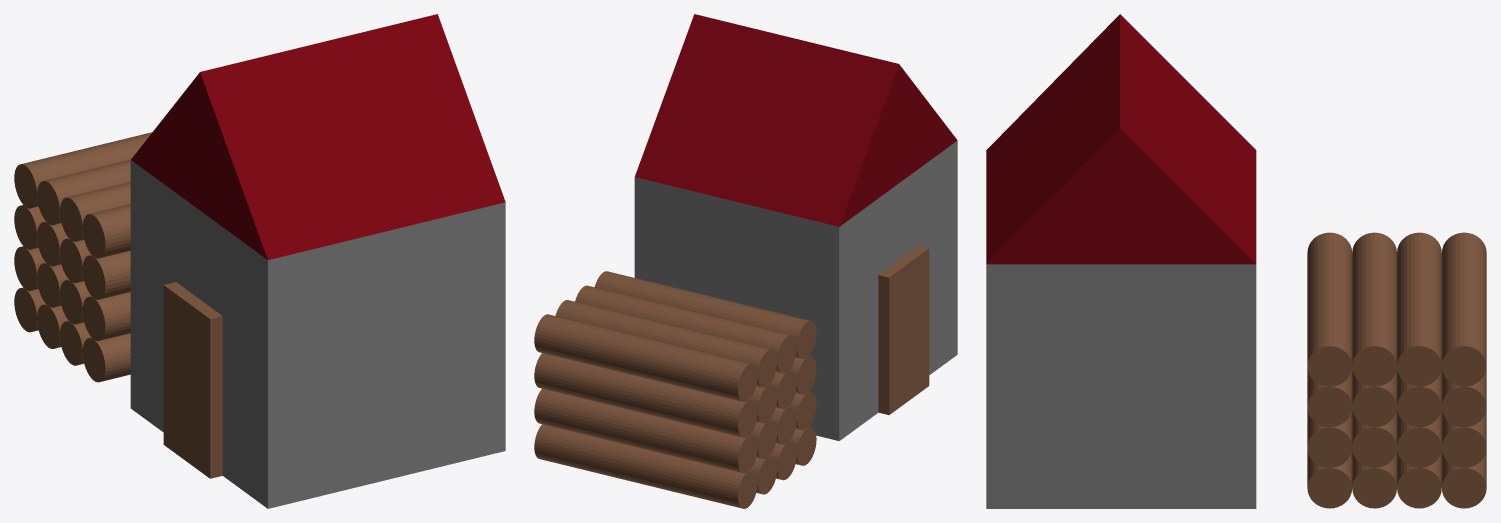
The model's file is WoodcutterHouse.fbx.
3 renders of one model, left to right at view 1: azimuth 30°, elevation 25°; view 2: azimuth 150°, elevation 25°; view 3: azimuth 270°, elevation 25°, orthographic. The views are drawn at different scales.
Visible parts, largest first — view 1: WoodCutter House, Logs; view 2: WoodCutter House, Logs; view 3: WoodCutter House, Logs.
Boxes of the visible parts, x1,y1,x2,y2 form: WoodCutter House: [130, 14, 505, 508]; Logs: [14, 132, 152, 382]; WoodCutter House: [634, 14, 957, 440]; Logs: [534, 271, 816, 508]; WoodCutter House: [986, 14, 1256, 508]; Logs: [1307, 232, 1486, 508].
Bounding box in the file's own units: 211 × 311 × 371.
